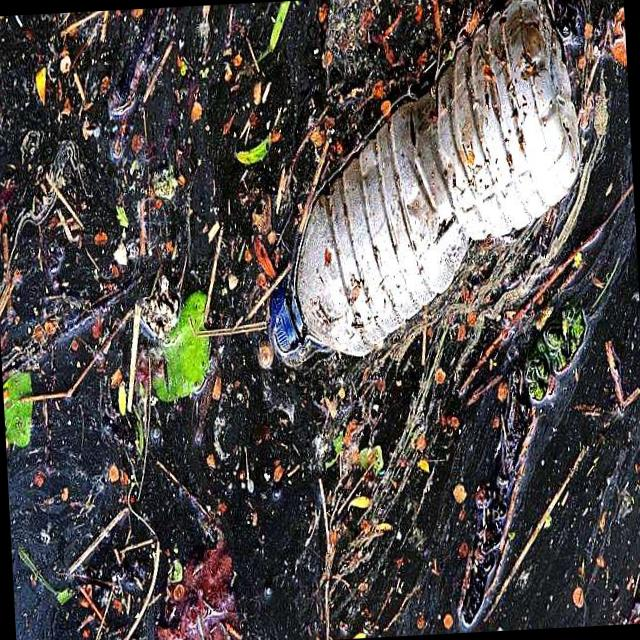Non-biodegradable: (216, 1, 628, 405)
